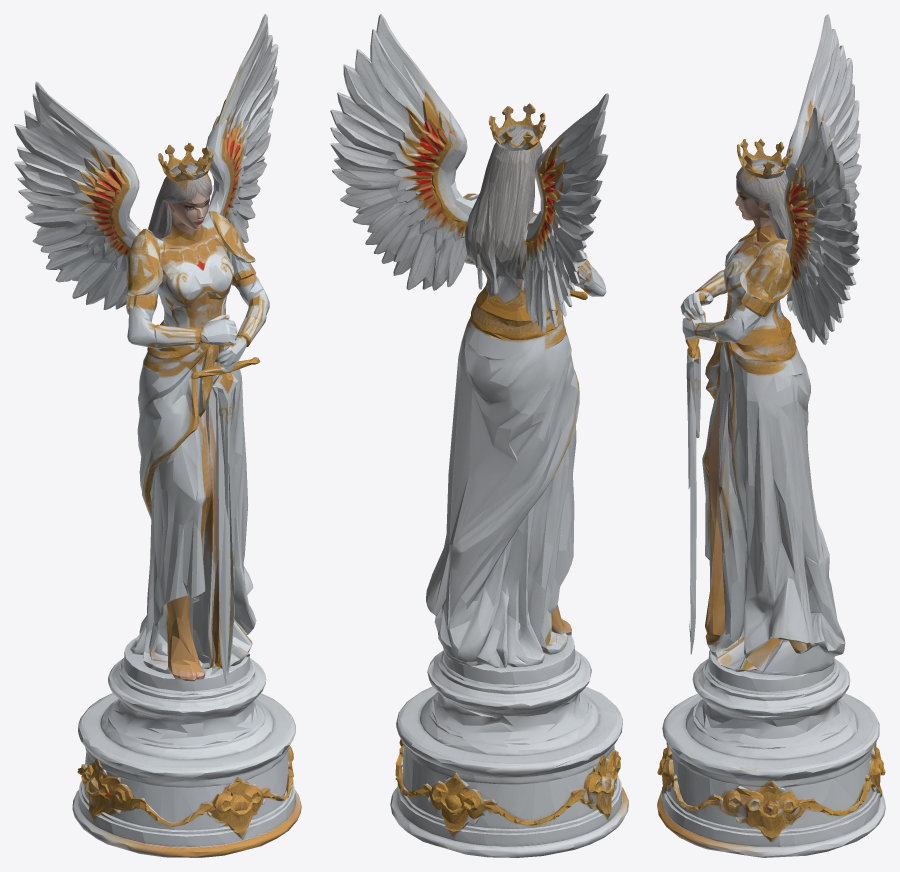
Rendered from guardian-statue.glb.
The picture shows the model from 3 angles, left to right: view 1: azimuth 30°, elevation 25°; view 2: azimuth 150°, elevation 25°; view 3: azimuth 270°, elevation 25°; orthographic projection. The views are drawn at different scales.
Bounding box in the file's own units: 0.6985 × 1.9 × 0.5228.
1 material, 1 textured.
